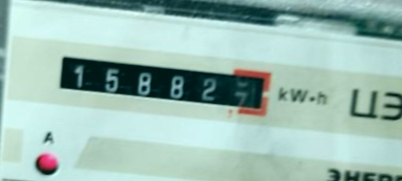1: (68, 65, 85, 92)
2: (198, 78, 215, 104)
5: (100, 68, 119, 96)
7: (230, 90, 246, 110)
8: (133, 73, 151, 100), (166, 75, 183, 102)
screen: (40, 41, 279, 131)
